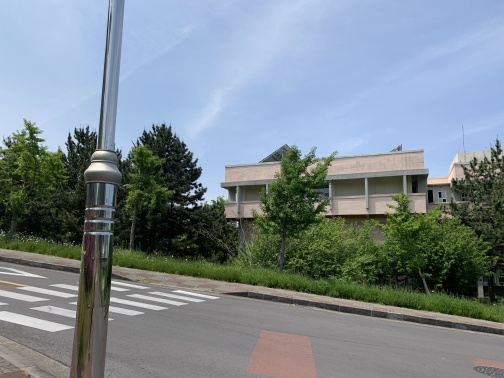College Of Education: (219, 136, 502, 268)
